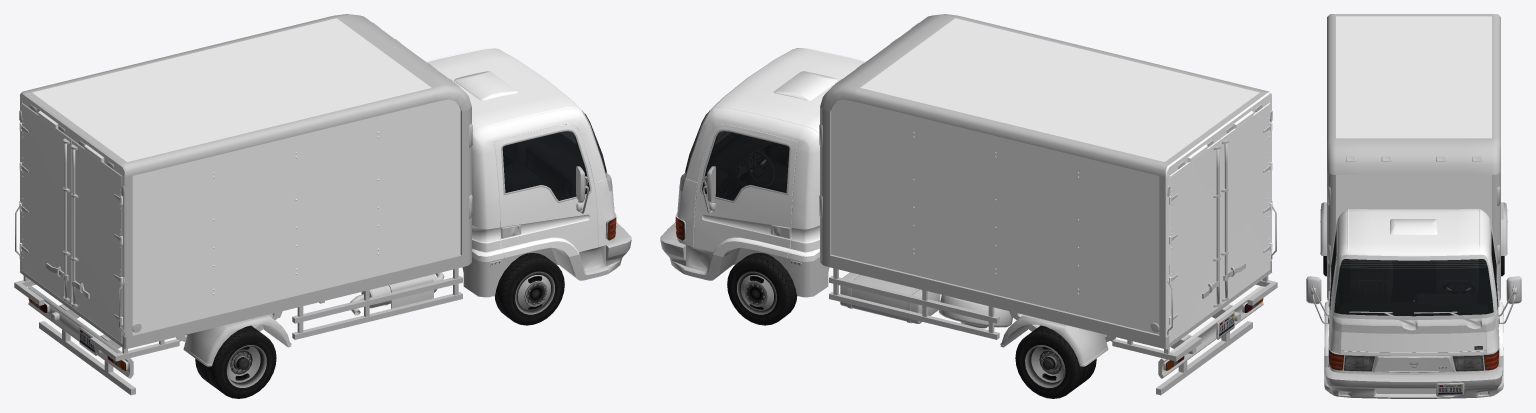
The model's file is lct3000.fbx.
The picture shows the model from 3 angles, left to right: view 1: azimuth 30°, elevation 25°; view 2: azimuth 150°, elevation 25°; view 3: azimuth 270°, elevation 25°; orthographic projection. The views are drawn at different scales.
Visible parts, largest first — view 1: LCT300095_Body, LCT300095_Bottom, LCT300095_Reardoor_Left, LCT300095_Reardoor_Right, LCT300095_Glass_Passenger, LCT300095_Interior, LCT300095_WheelStock_FR, LCT300095_WheelStock_RR, LCT300095_Bumper_rear, LCT300095_Reardoor_Right_Inner, LCT300095_Reardoor_Left_Inner, LCT300095_Bumper_front; view 2: LCT300095_Body, LCT300095_Bottom, LCT300095_Reardoor_Right, LCT300095_Reardoor_Left, LCT300095_Glass_Driver, LCT300095_WheelStock_FL, LCT300095_WheelStock_RL, LCT300095_Interior, LCT300095_Bumper_rear, LCT300095_Reardoor_Right_Inner, LCT300095_Reardoor_Left_Inner, LCT300095_Bumper_front; view 3: LCT300095_Body, LCT300095_Bottom, LCT300095_Windshield, LCT300095_Interior, LCT300095_Bumper_front, LCT300095_Headlights_Glass, LCT300095_Headlights, LCT300095_Blinkers, LCT300095_Numberplate_front, LCT300095_Glass_Passenger, LCT300095_Glass_Driver.
Part boxes in pixels (left/top/right/bottom): LCT300095_Body: left=19, top=18, right=614, bottom=337; LCT300095_Bottom: left=14, top=14, right=616, bottom=395; LCT300095_Reardoor_Left: left=21, top=102, right=72, bottom=306; LCT300095_Reardoor_Right: left=72, top=139, right=122, bottom=343; LCT300095_Glass_Passenger: left=502, top=131, right=589, bottom=200; LCT300095_Interior: left=503, top=132, right=606, bottom=200; LCT300095_WheelStock_FR: left=494, top=253, right=564, bottom=325; LCT300095_WheelStock_RR: left=195, top=325, right=276, bottom=398; LCT300095_Bumper_rear: left=28, top=286, right=133, bottom=378; LCT300095_Reardoor_Right_Inner: left=71, top=144, right=122, bottom=319; LCT300095_Reardoor_Left_Inner: left=21, top=125, right=70, bottom=301; LCT300095_Bumper_front: left=606, top=222, right=631, bottom=273; LCT300095_Body: left=677, top=18, right=1272, bottom=337; LCT300095_Bottom: left=675, top=14, right=1277, bottom=395; LCT300095_Reardoor_Right: left=1219, top=102, right=1270, bottom=306; LCT300095_Reardoor_Left: left=1169, top=139, right=1219, bottom=343; LCT300095_Glass_Driver: left=702, top=131, right=789, bottom=200; LCT300095_WheelStock_FL: left=727, top=253, right=797, bottom=325; LCT300095_WheelStock_RL: left=1015, top=325, right=1096, bottom=398; LCT300095_Interior: left=685, top=132, right=788, bottom=200; LCT300095_Bumper_rear: left=1158, top=286, right=1263, bottom=378; LCT300095_Reardoor_Right_Inner: left=1221, top=125, right=1270, bottom=301; LCT300095_Reardoor_Left_Inner: left=1169, top=144, right=1220, bottom=319; LCT300095_Bumper_front: left=660, top=222, right=685, bottom=273; LCT300095_Body: left=1324, top=16, right=1503, bottom=374; LCT300095_Bottom: left=1306, top=14, right=1521, bottom=387; LCT300095_Windshield: left=1334, top=259, right=1493, bottom=316; LCT300095_Interior: left=1330, top=237, right=1497, bottom=315; LCT300095_Bumper_front: left=1324, top=367, right=1503, bottom=398; LCT300095_Headlights_Glass: left=1329, top=350, right=1498, bottom=371; LCT300095_Headlights: left=1344, top=356, right=1483, bottom=370; LCT300095_Blinkers: left=1329, top=350, right=1498, bottom=369; LCT300095_Numberplate_front: left=1438, top=384, right=1462, bottom=394; LCT300095_Glass_Passenger: left=1330, top=232, right=1336, bottom=309; LCT300095_Glass_Driver: left=1491, top=232, right=1497, bottom=309.
Bounding box in the file's own units: 6.02 × 2.84 × 2.61.
